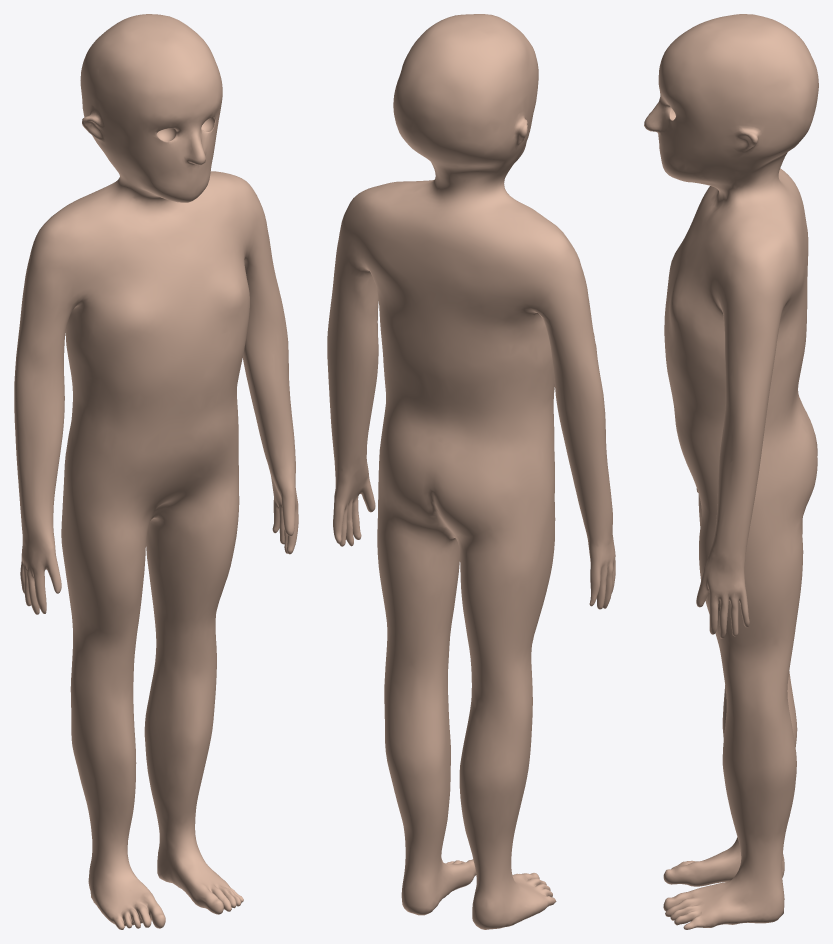
Rendered from pediatric_child_5y_female.surface.LOD0.glb.
3 renders of one model, left to right at view 1: azimuth 30°, elevation 25°; view 2: azimuth 150°, elevation 25°; view 3: azimuth 270°, elevation 25°, orthographic.
Visible parts, largest first — view 1: PEDIATRIC.CHILD_5Y.FEMALE.SURFACE.SKIN; view 2: PEDIATRIC.CHILD_5Y.FEMALE.SURFACE.SKIN; view 3: PEDIATRIC.CHILD_5Y.FEMALE.SURFACE.SKIN.
Boxes of the visible parts, x1,y1,x2,y2 form: PEDIATRIC.CHILD_5Y.FEMALE.SURFACE.SKIN: [14, 14, 298, 929]; PEDIATRIC.CHILD_5Y.FEMALE.SURFACE.SKIN: [327, 14, 615, 929]; PEDIATRIC.CHILD_5Y.FEMALE.SURFACE.SKIN: [644, 14, 818, 929].
Size of the model in its own units: 0.3536 by 1.09 by 0.1968.
